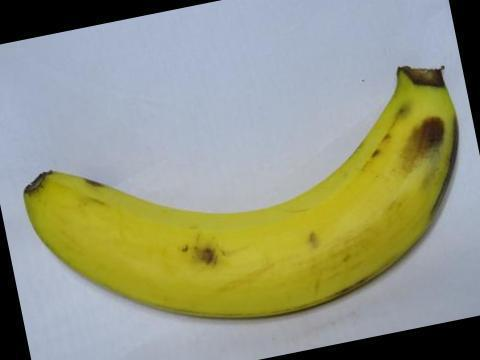freshripe: (12, 55, 473, 340)
